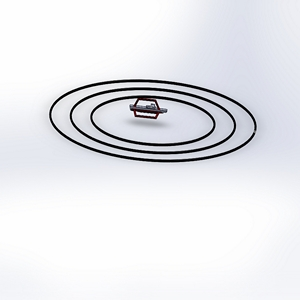circle: (44, 76, 261, 172)
submarine: (126, 93, 167, 122)
